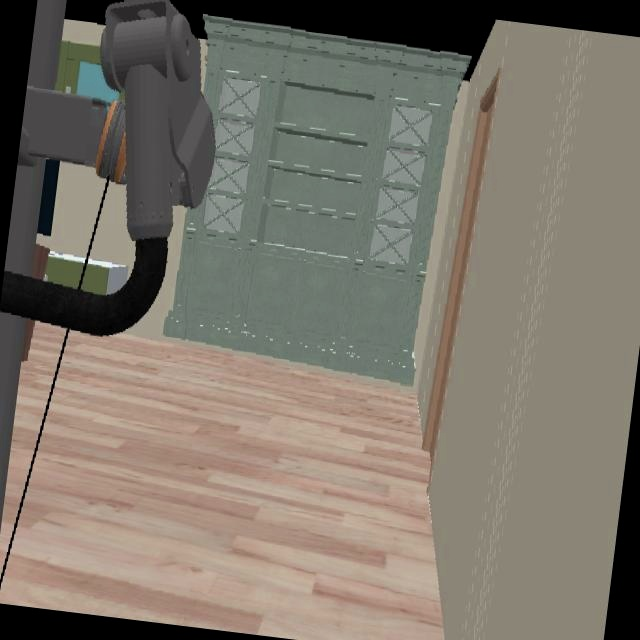bookshelf: (162, 14, 471, 385)
